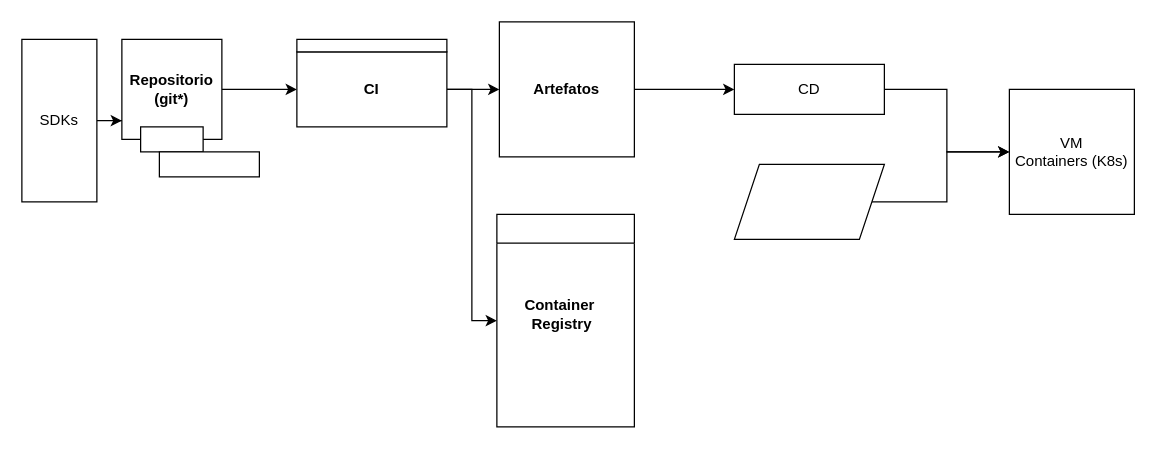
Some shapes in this 1156 by 449 pixel diagram are drawn without their labels. The centre of each missing label's shape, as x and y in pixels:
AngularJS: (208,164)
CPU Memória Otimização: (808,201)
Java: (171,139)
